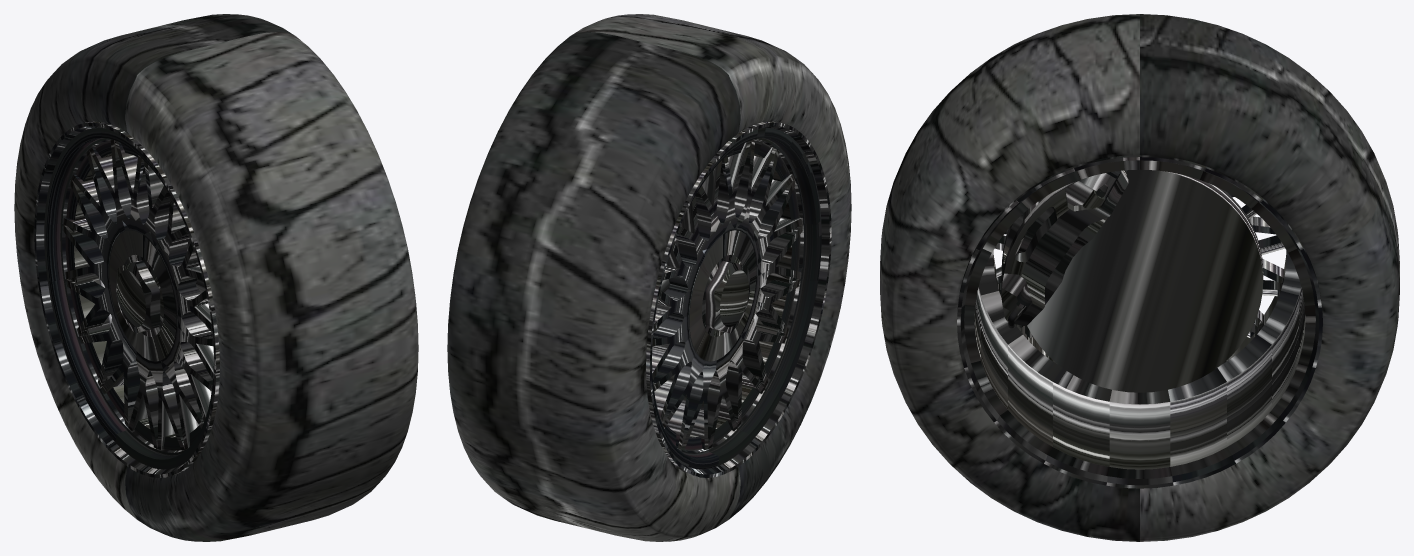
File: llantad.dae
The picture shows the model from 3 angles, left to right: view 1: azimuth 30°, elevation 25°; view 2: azimuth 150°, elevation 25°; view 3: azimuth 270°, elevation 25°; orthographic projection.
Parts seen in each view (by area): view 1: llantad; view 2: llantad; view 3: llantad.
Part boxes in pixels (left/top/right/bottom): llantad: left=14, top=14, right=418, bottom=541; llantad: left=447, top=14, right=851, bottom=541; llantad: left=880, top=14, right=1399, bottom=541.
Bounding box in the file's own units: 0.2544 × 0.6232 × 0.6232.
